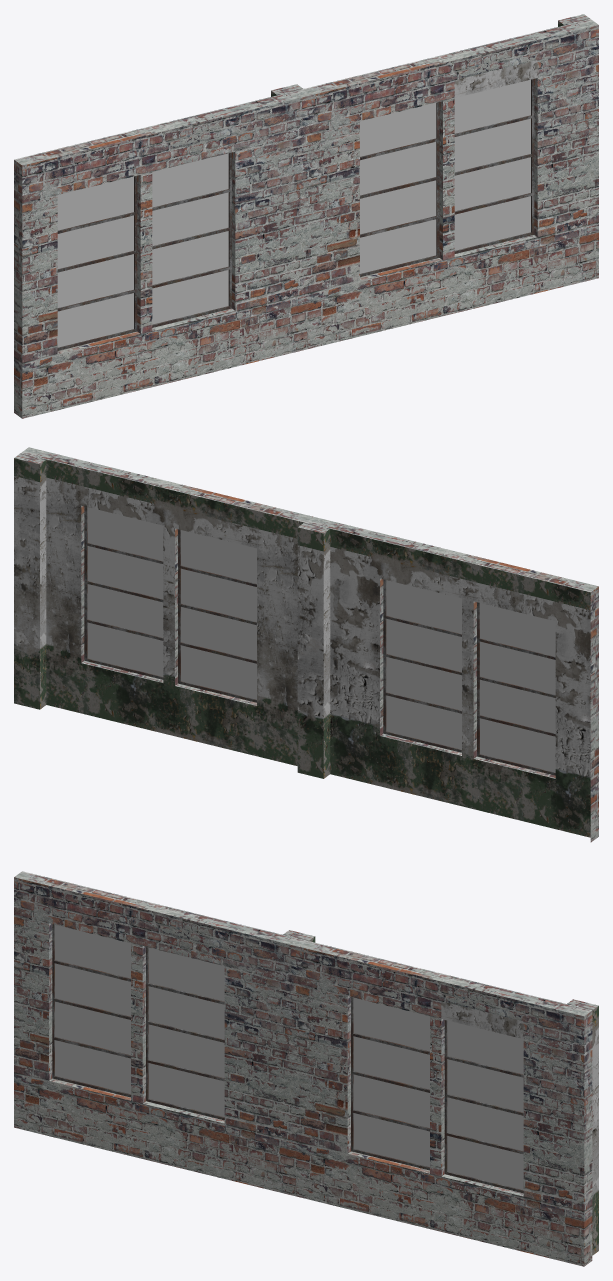
The model's file is Factory2Wall04.FBX.
3 renders of one model, top to bottom at view 1: azimuth 30°, elevation 25°; view 2: azimuth 150°, elevation 25°; view 3: azimuth 330°, elevation 25°, orthographic.
Parts seen in each view (by area): view 1: Factory2Wall04, Factory2Wall04Glass; view 2: Factory2Wall04, Factory2Wall04Glass; view 3: Factory2Wall04, Factory2Wall04Glass.
Boxes of the visible parts, x1,y1,x2,y2 form: Factory2Wall04: (14, 14, 598, 418); Factory2Wall04Glass: (57, 79, 530, 347); Factory2Wall04: (14, 447, 598, 842); Factory2Wall04Glass: (87, 507, 555, 772); Factory2Wall04: (14, 871, 598, 1266); Factory2Wall04Glass: (55, 925, 523, 1189).
Size of the model in its own units: 1200 by 503 by 53.83.
